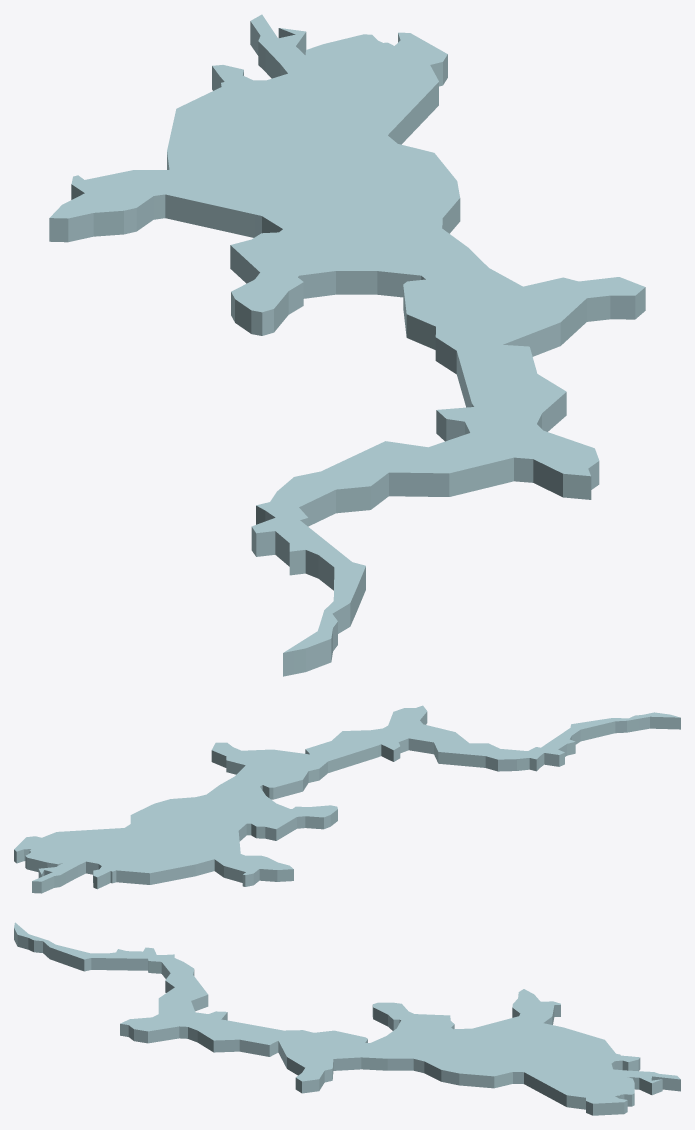
The model's file is littlemagothy3.glb.
The picture shows the model from 3 angles, top to bottom: view 1: azimuth 30°, elevation 25°; view 2: azimuth 150°, elevation 25°; view 3: azimuth 270°, elevation 25°; orthographic projection. The views are drawn at different scales.
Visible parts, largest first — view 1: littlemagothy; view 2: littlemagothy; view 3: littlemagothy.
Part boxes in pixels (x1,y1,x2,y2): littlemagothy: (49, 14, 645, 676); littlemagothy: (14, 705, 680, 893); littlemagothy: (14, 922, 680, 1115).
Bounding box in the file's own units: 1.6 × 0.0492 × 2.48.
